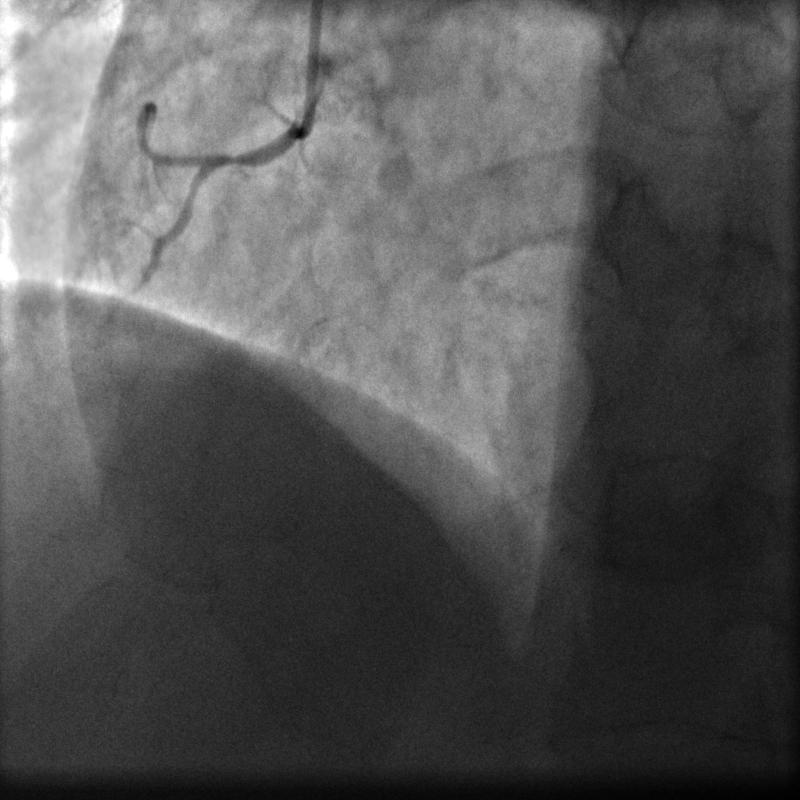Stenosis: (210, 140, 252, 188)
